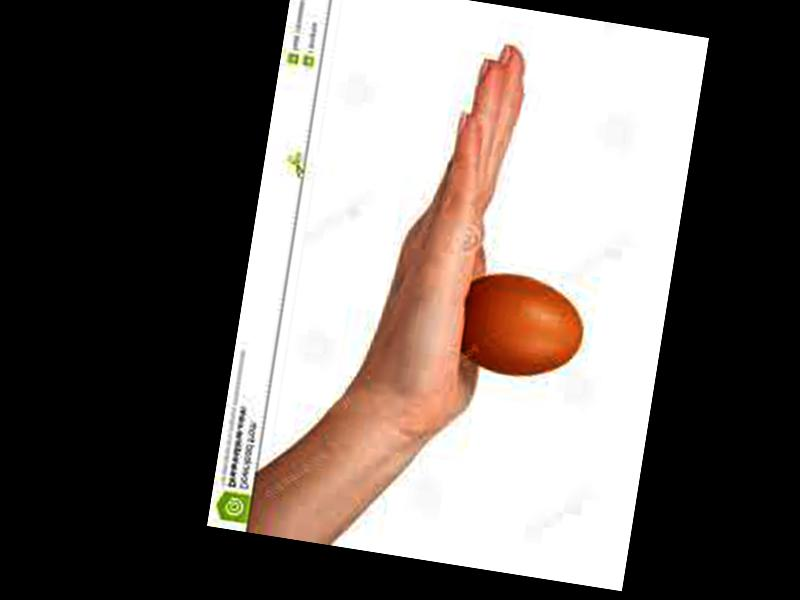Eggs: (453, 267, 589, 383)
